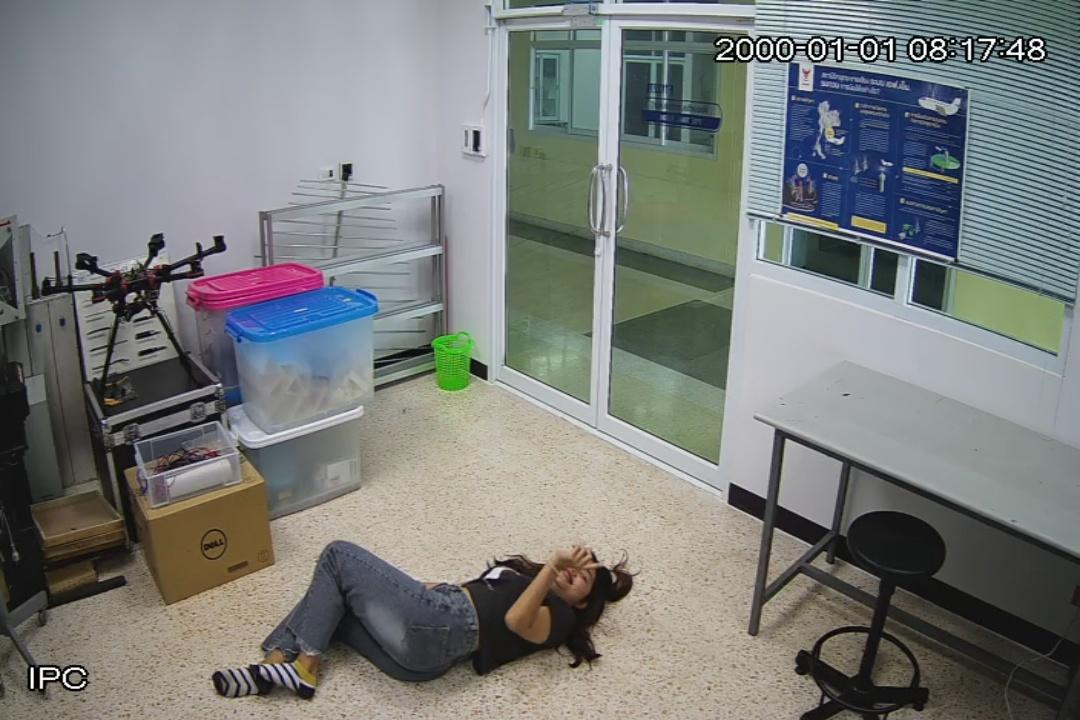fall: (210, 520, 633, 720)
